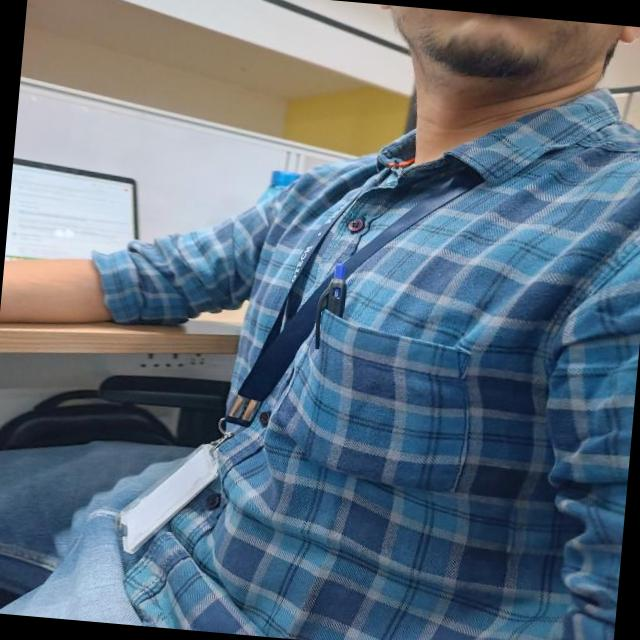id_card: (114, 125, 464, 583)
